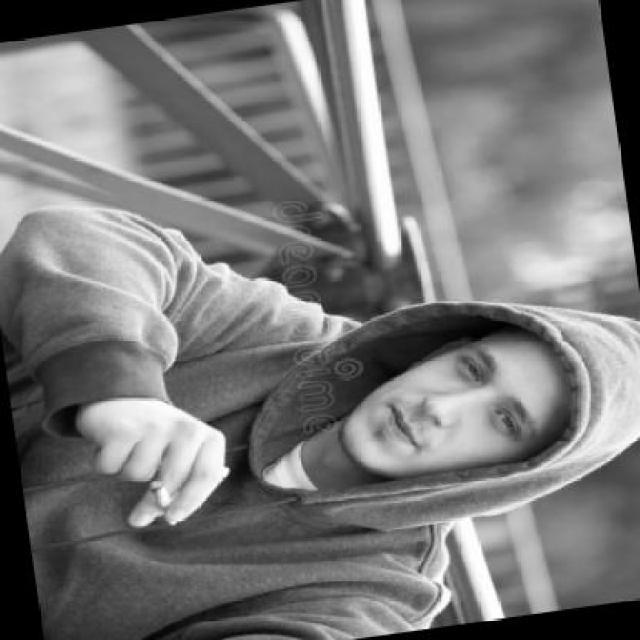cigarette: (146, 476, 172, 516)
